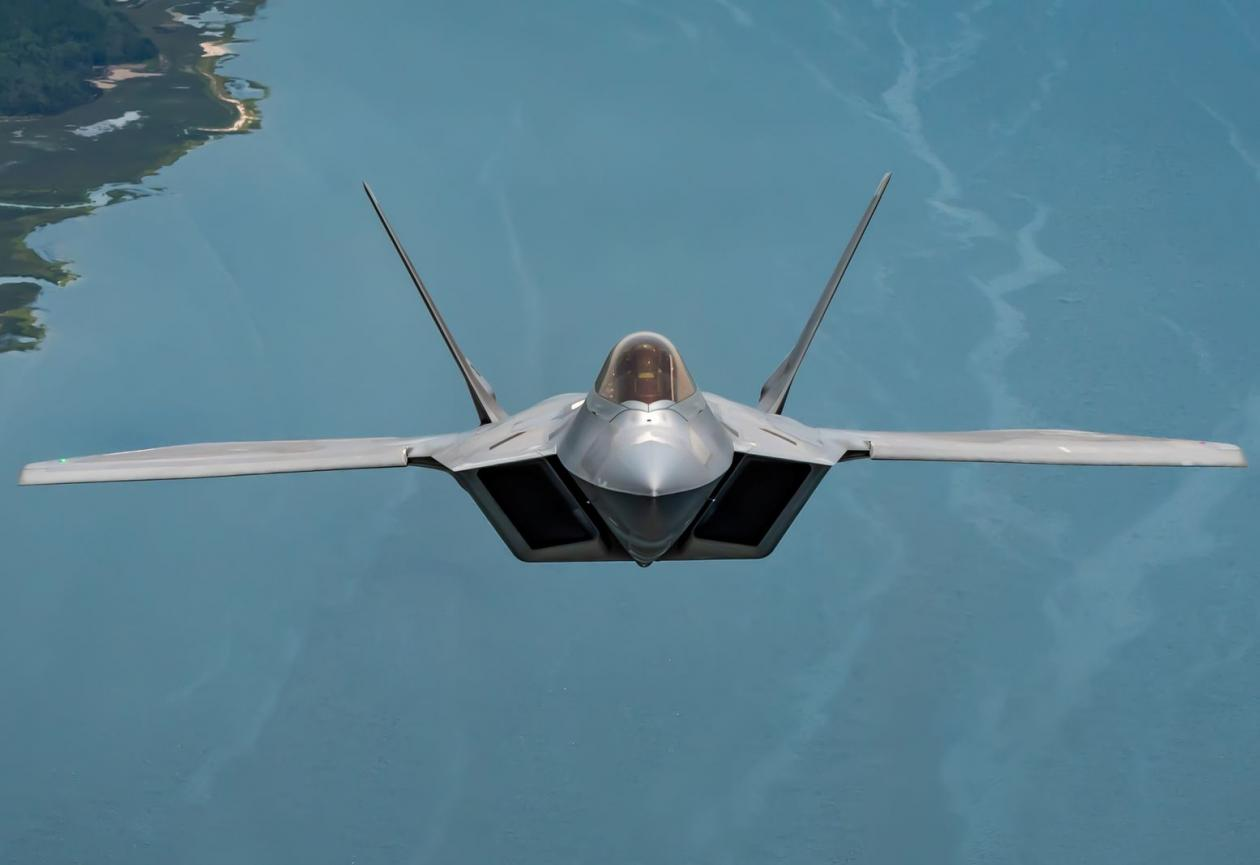F-35 Lightning: (207, 154, 1162, 680)
